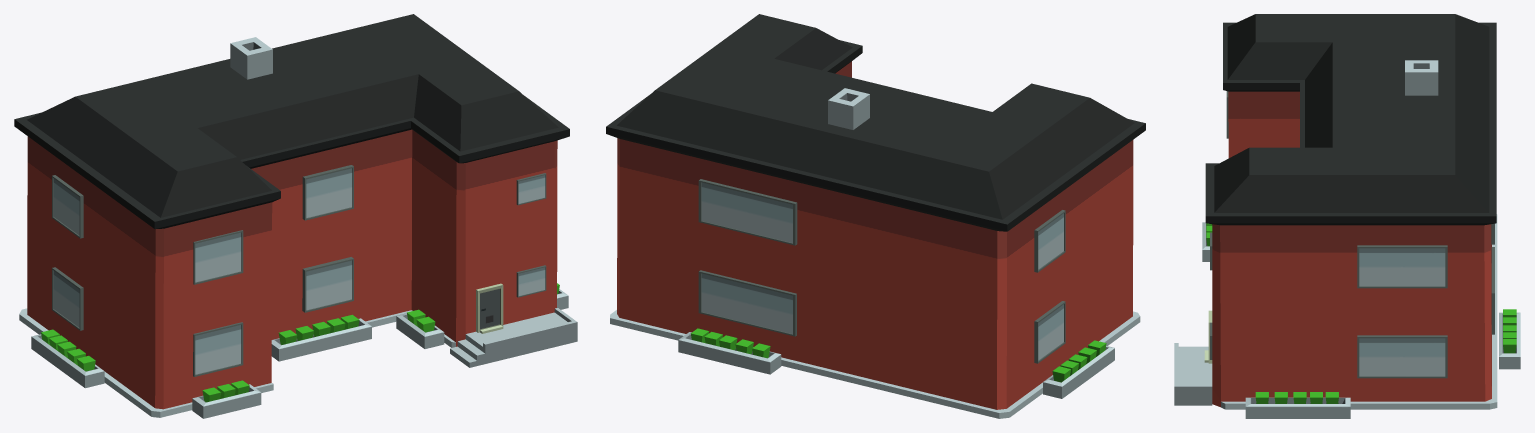
The model's file is Flatty Roof U High.fbx.
3 renders of one model, left to right at view 1: azimuth 30°, elevation 25°; view 2: azimuth 150°, elevation 25°; view 3: azimuth 270°, elevation 25°, orthographic. The views are drawn at different scales.
Parts seen in each view (by area): view 1: Flatty Roof U High; view 2: Flatty Roof U High; view 3: Flatty Roof U High.
Part boxes in pixels (x1,y1,x2,y2): Flatty Roof U High: (14,14,577,418); Flatty Roof U High: (606,14,1145,418); Flatty Roof U High: (1174,14,1520,418).
Size of the model in its own units: 8.62 by 4.65 by 5.96.
